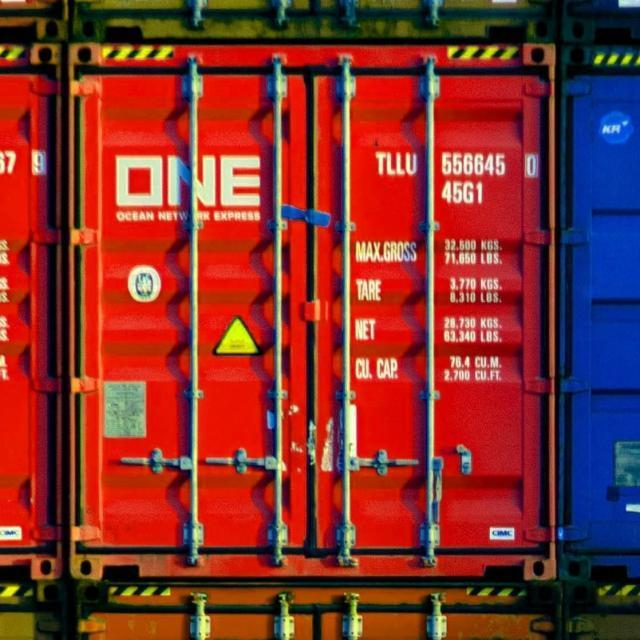ISO: (443, 182, 485, 204)
container_number: (372, 152, 540, 178)
